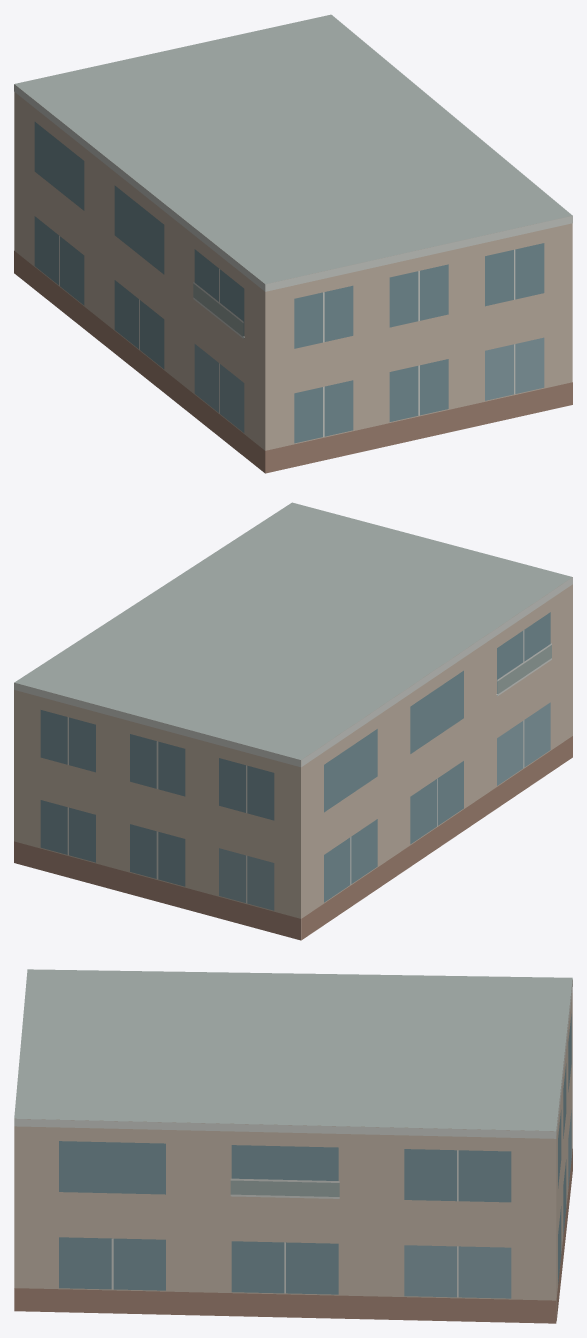
Rendered from survey-upis-32894120.glb.
3 views of the same model, one above another, from view 1: azimuth 30°, elevation 25°; view 2: azimuth 150°, elevation 25°; view 3: azimuth 270°, elevation 25° (orthographic). The views are drawn at different scales.
Parts seen in each view (by area): view 1: survey-upis-32894120.tmp; view 2: survey-upis-32894120.tmp; view 3: survey-upis-32894120.tmp.
Part boxes in pixels (<box>): survey-upis-32894120.tmp: <box>14,14,572,473</box>; survey-upis-32894120.tmp: <box>14,502,572,940</box>; survey-upis-32894120.tmp: <box>14,969,572,1323</box>.
Size of the model in its own units: 11.02 by 6.1 by 16.07.
